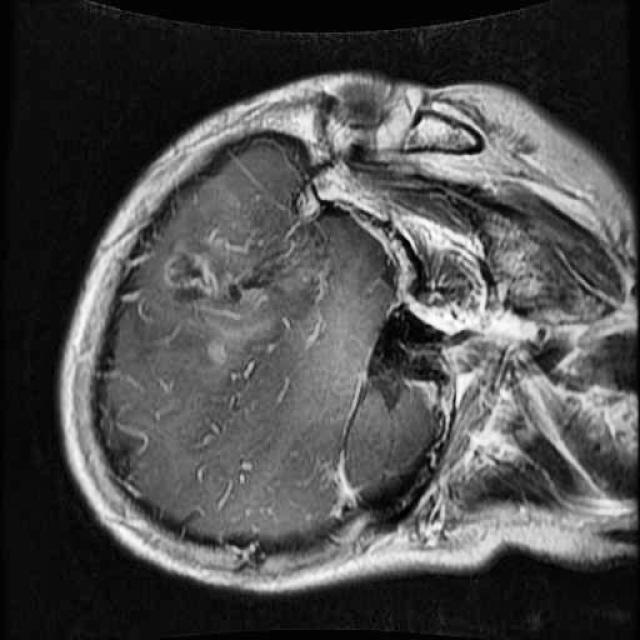Non-Tumor: (139, 172, 346, 392)
